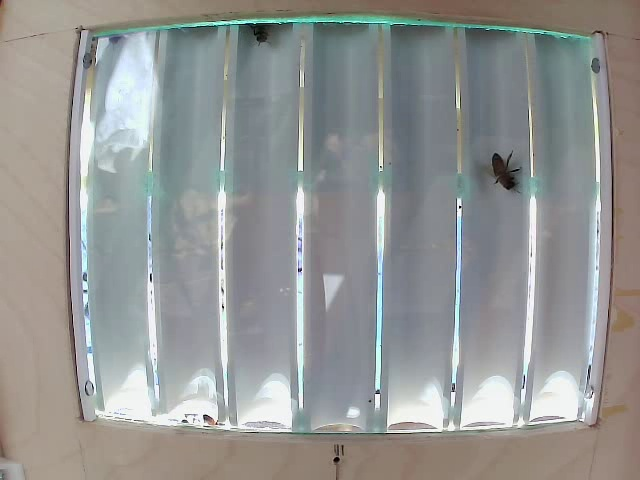bee: (486, 143, 527, 205)
